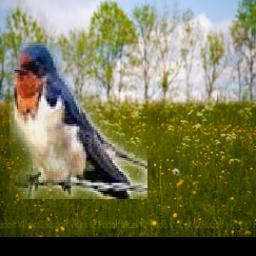Swallow: (11, 43, 149, 199)
